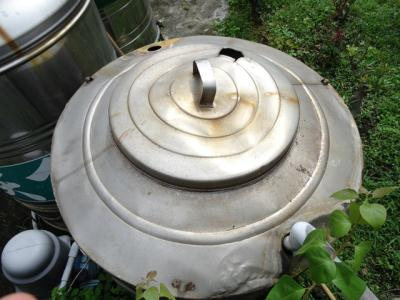plate: (48, 33, 382, 299)
